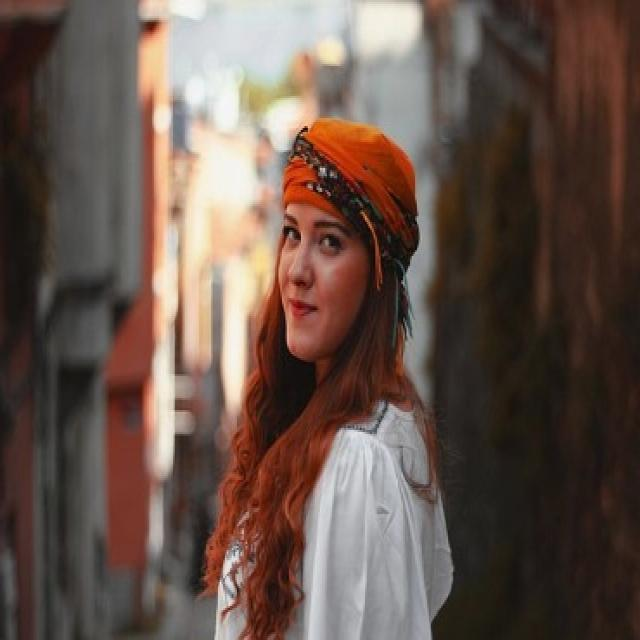adult: (201, 123, 453, 640)
